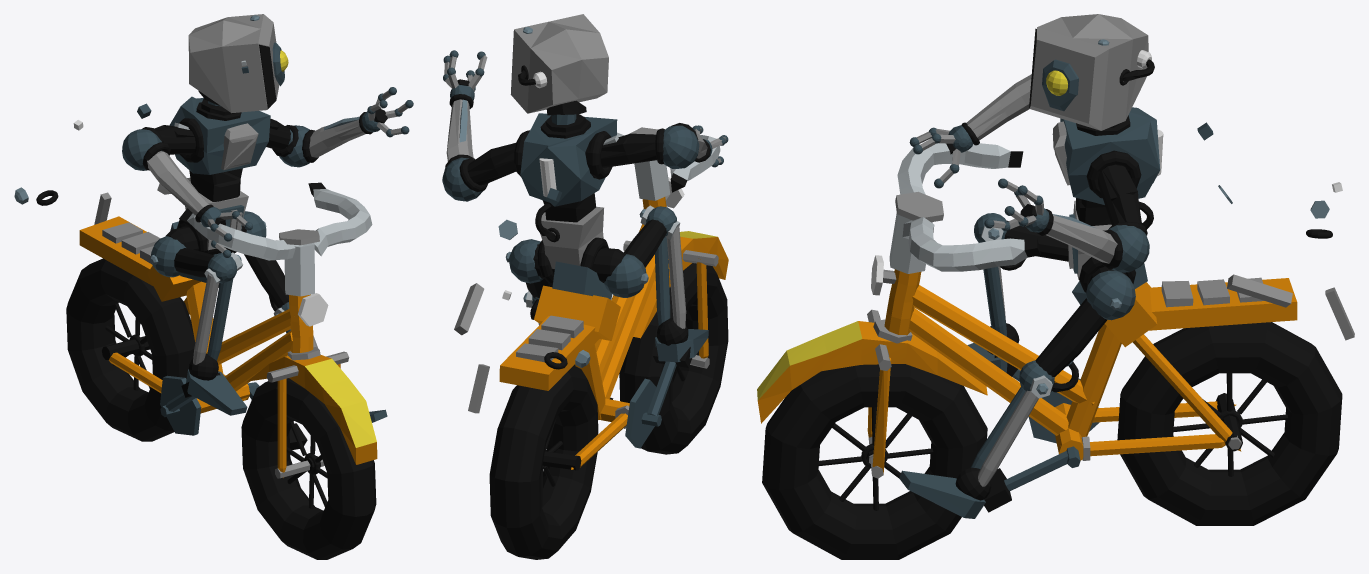
3 renders of one model, left to right at view 1: azimuth 30°, elevation 25°; view 2: azimuth 150°, elevation 25°; view 3: azimuth 270°, elevation 25°, orthographic. The views are drawn at different scales.
Visible parts, largest first — view 1: node_MeshObject1530744832-PolyPaper22, node_MeshObject2102823936-PolyPaper23; view 2: node_MeshObject1530744832-PolyPaper22, node_MeshObject2102823936-PolyPaper23; view 3: node_MeshObject1530744832-PolyPaper22, node_MeshObject2102823936-PolyPaper23.
Part boxes in pixels (x1=…): node_MeshObject1530744832-PolyPaper22: x1=66, y1=14, x2=413, y2=559; node_MeshObject2102823936-PolyPaper23: x1=14, y1=91, x2=258, y2=415; node_MeshObject1530744832-PolyPaper22: x1=442, y1=14, x2=728, y2=559; node_MeshObject2102823936-PolyPaper23: x1=498, y1=100, x2=728, y2=369; node_MeshObject1530744832-PolyPaper22: x1=757, y1=14, x2=1354, y2=559; node_MeshObject2102823936-PolyPaper23: x1=909, y1=115, x2=1332, y2=372.
Bounding box in the file's own units: 0.9357 × 1.54 × 1.52.
